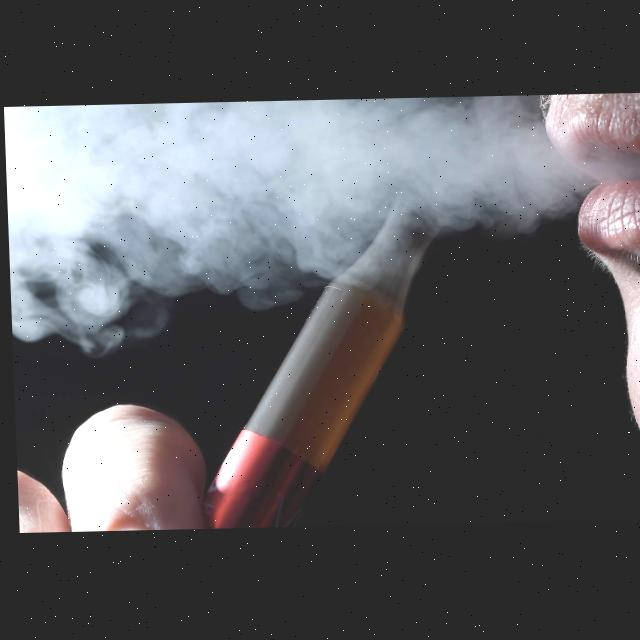vape: (194, 185, 452, 530)
